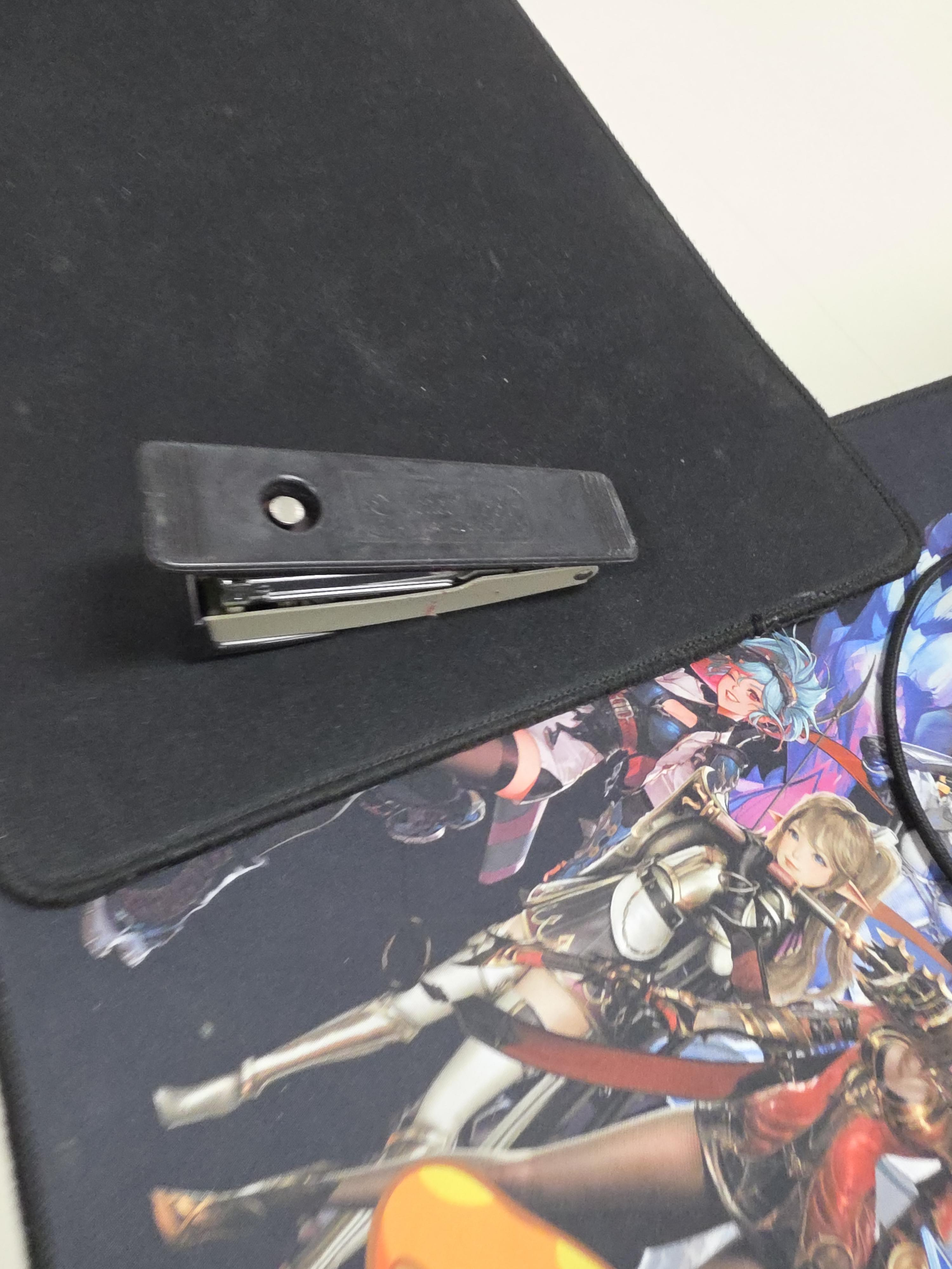stapler: (139, 441, 639, 653)
